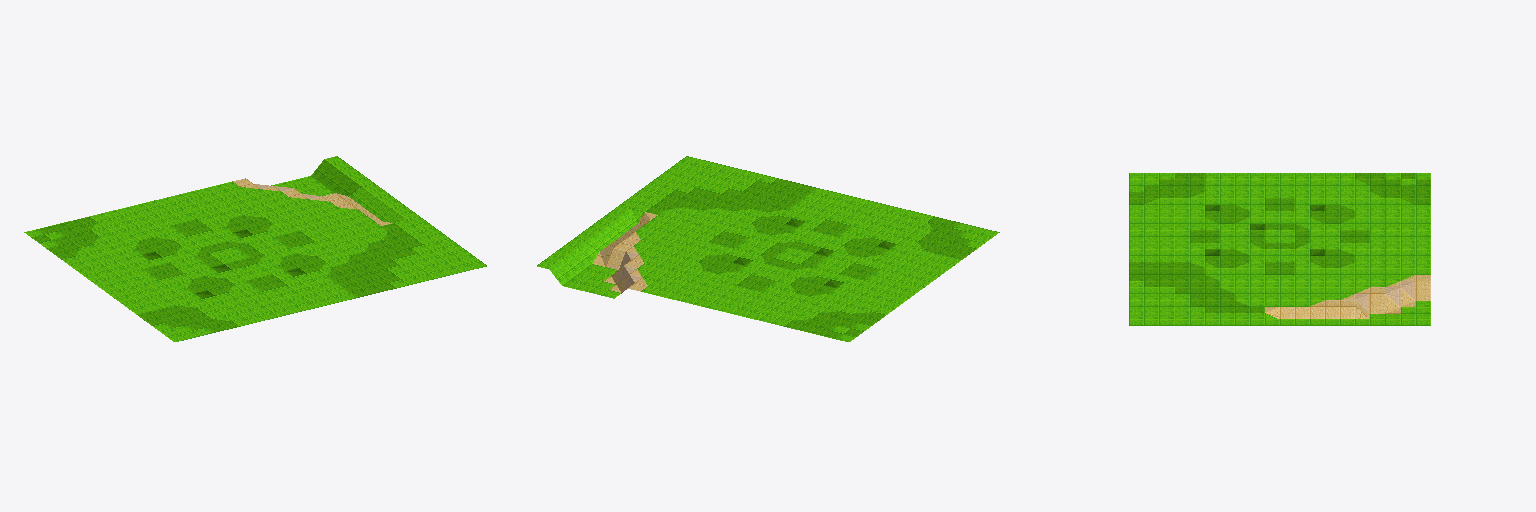
The picture shows the model from 3 angles: view 1: azimuth 30°, elevation 25°; view 2: azimuth 150°, elevation 25°; view 3: azimuth 270°, elevation 25°; orthographic projection.
Visible parts, largest first — view 1: FloorSide_3; view 2: FloorSide_3; view 3: FloorSide_3.
Boxes of the visible parts, x1=… form: FloorSide_3: x1=24, y1=156, x2=486, y2=341; FloorSide_3: x1=537, y1=156, x2=999, y2=341; FloorSide_3: x1=1129, y1=173, x2=1430, y2=325.
Bounding box in the file's own units: 24 × 0.9857 × 20.
11 materials, 11 textured.